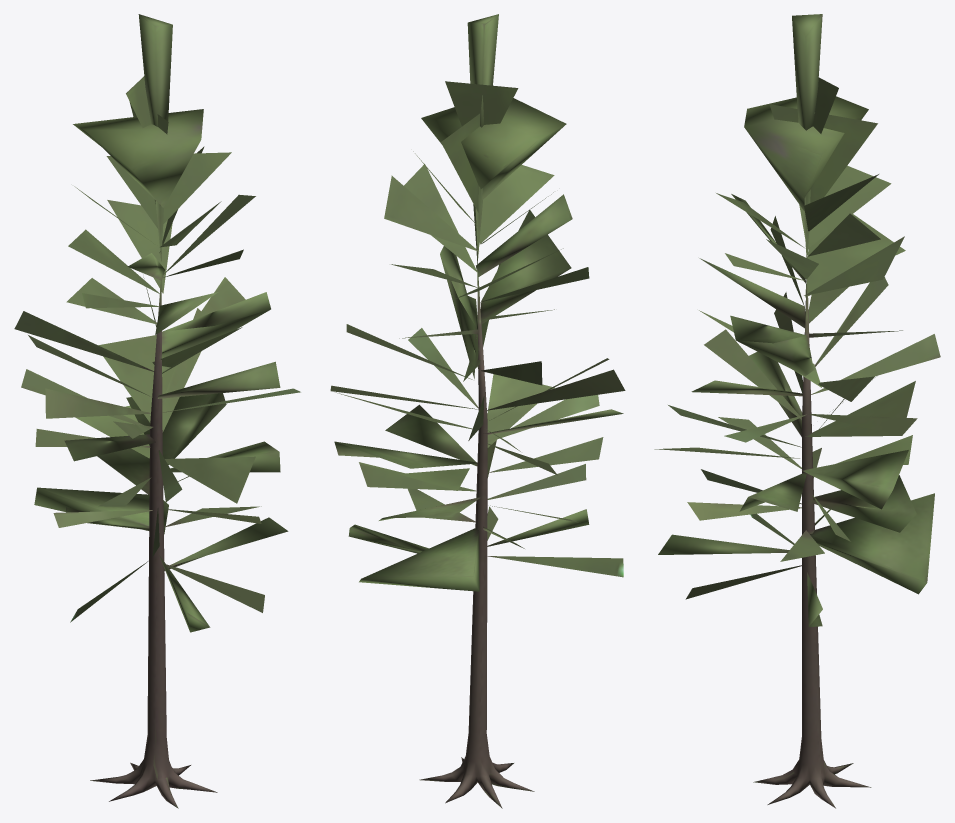
The model's file is tree-larch-01.glb.
The picture shows the model from 3 angles, left to right: view 1: azimuth 30°, elevation 25°; view 2: azimuth 150°, elevation 25°; view 3: azimuth 270°, elevation 25°; orthographic projection.
Size of the model in its own units: 0.3359 by 0.9507 by 0.3223.
1 material, 1 textured.
